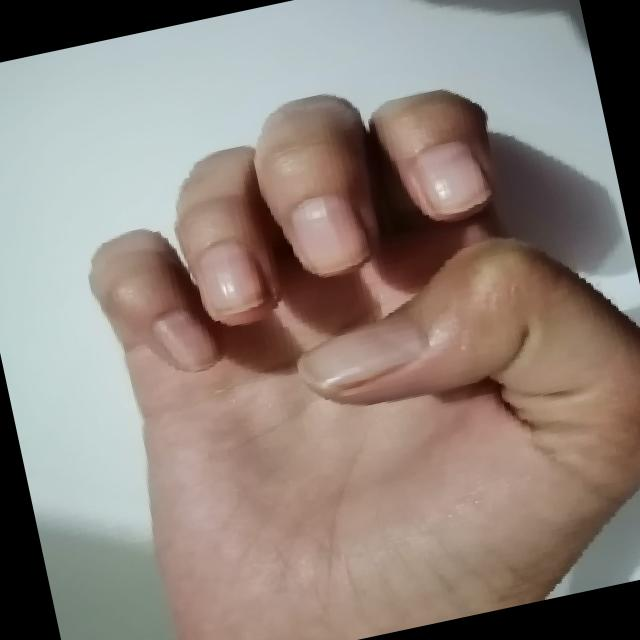Nail: (298, 310, 426, 389), (290, 194, 369, 274), (195, 238, 265, 318), (416, 139, 489, 214), (154, 308, 217, 370)
